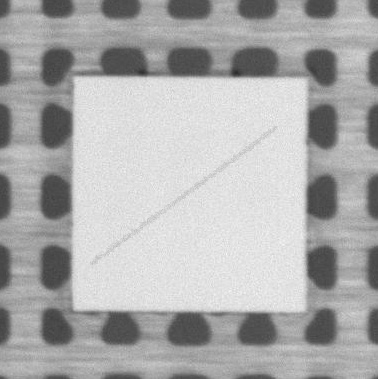DIE_CRACK: (91, 128, 275, 265)
